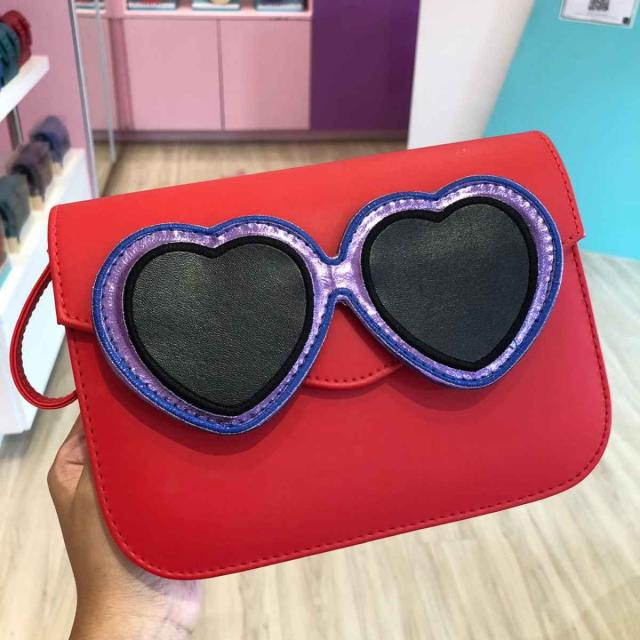handbag: (46, 128, 614, 583)
